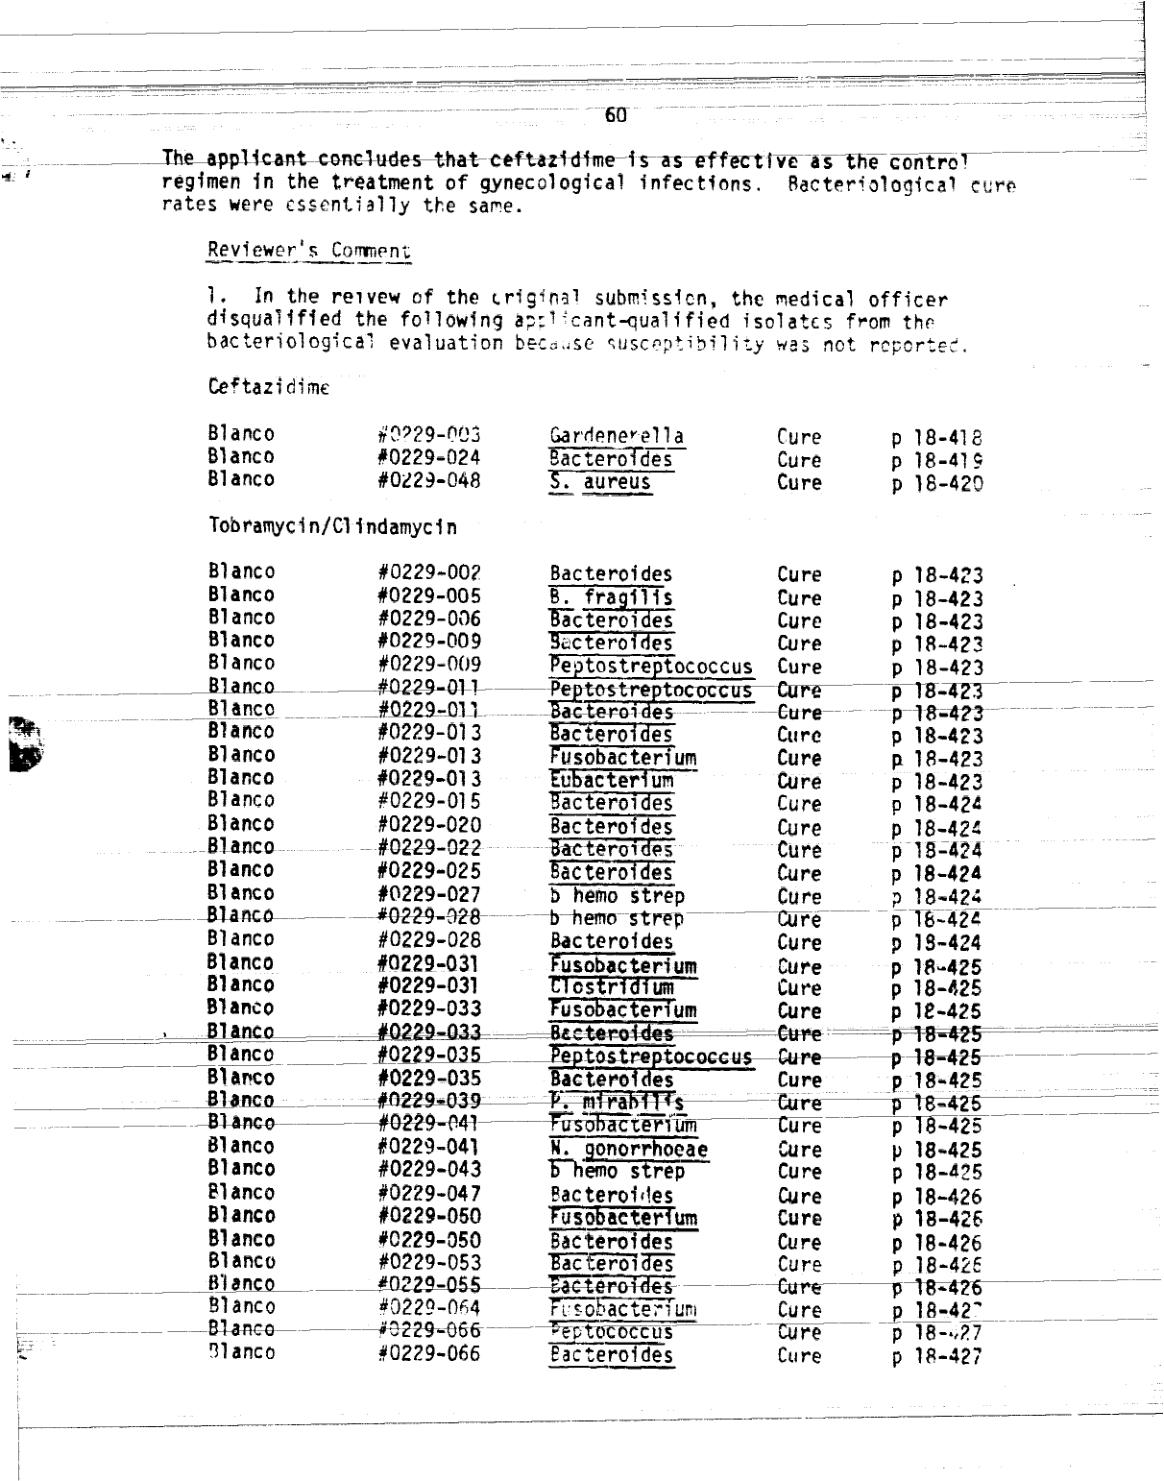nolines: (204, 560, 984, 1369), (204, 420, 984, 496)
